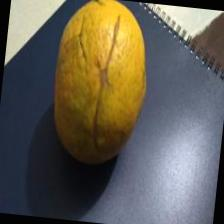Orange Rotten: (37, 0, 162, 183)
